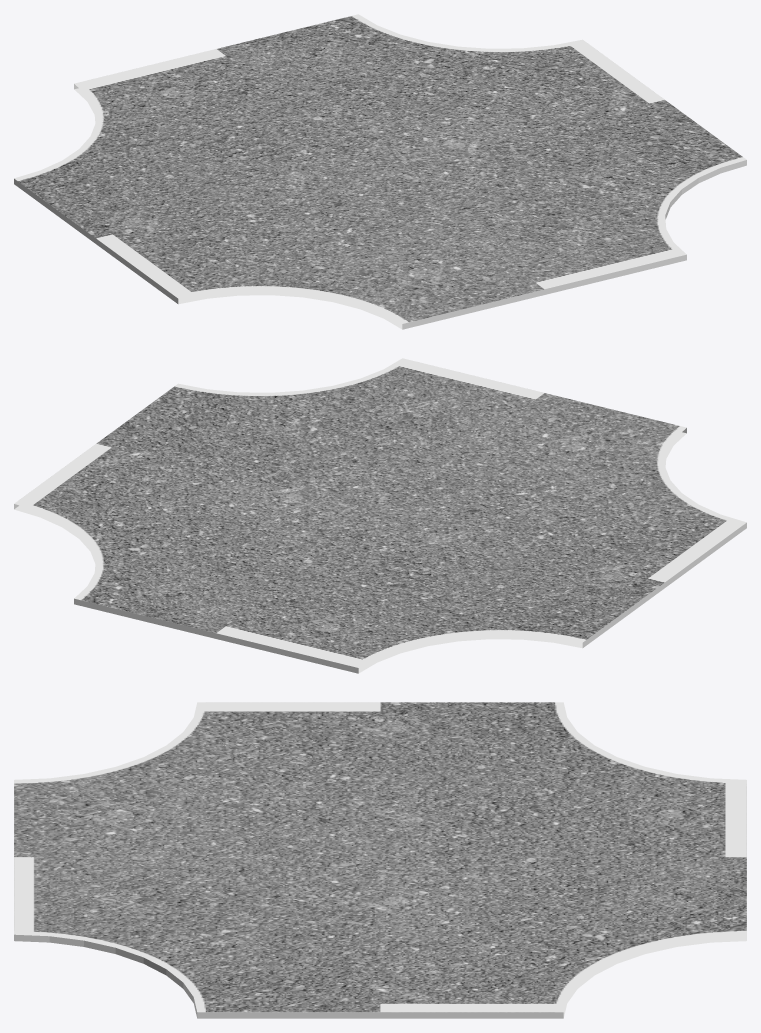
Rendered from road_intersection.dae.
The picture shows the model from 3 angles, top to bottom: view 1: azimuth 30°, elevation 25°; view 2: azimuth 150°, elevation 25°; view 3: azimuth 270°, elevation 25°; orthographic projection. The views are drawn at different scales.
Visible parts, largest first — view 1: Cube; view 2: Cube; view 3: Cube.
Boxes of the visible parts, <box> form: Cube: <box>14,14,746,329</box>; Cube: <box>14,358,746,673</box>; Cube: <box>14,702,746,1018</box>.
Bounding box in the file's own units: 10.4 × 10.4 × 0.1.
Materials: 1 (1 with a texture image).
